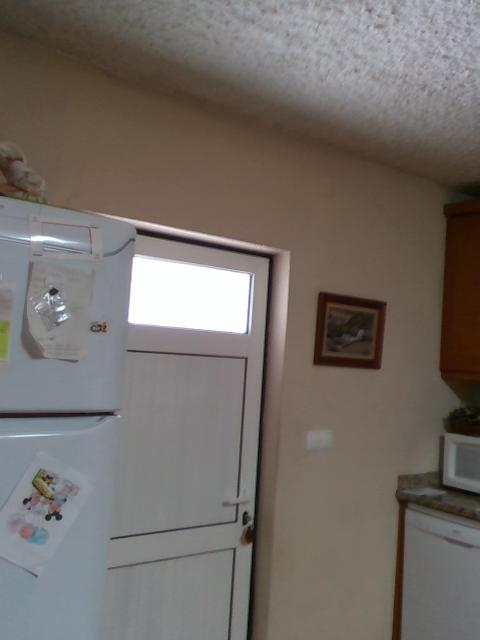door: (104, 230, 269, 637)
